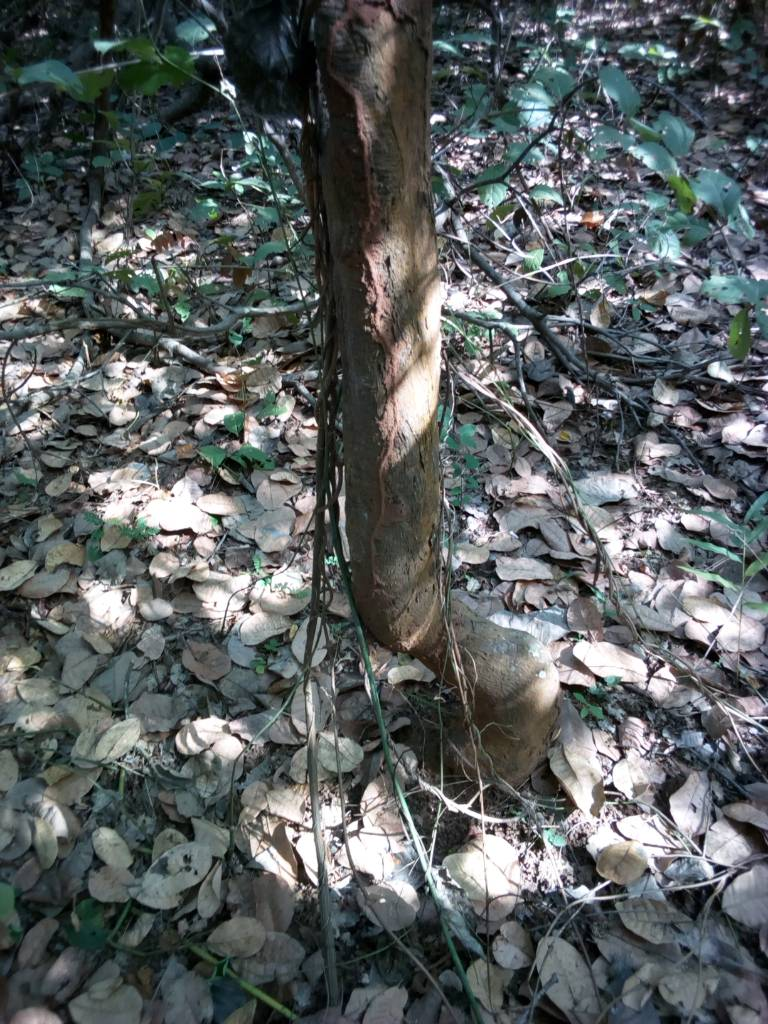Termites: (322, 58, 438, 599)
